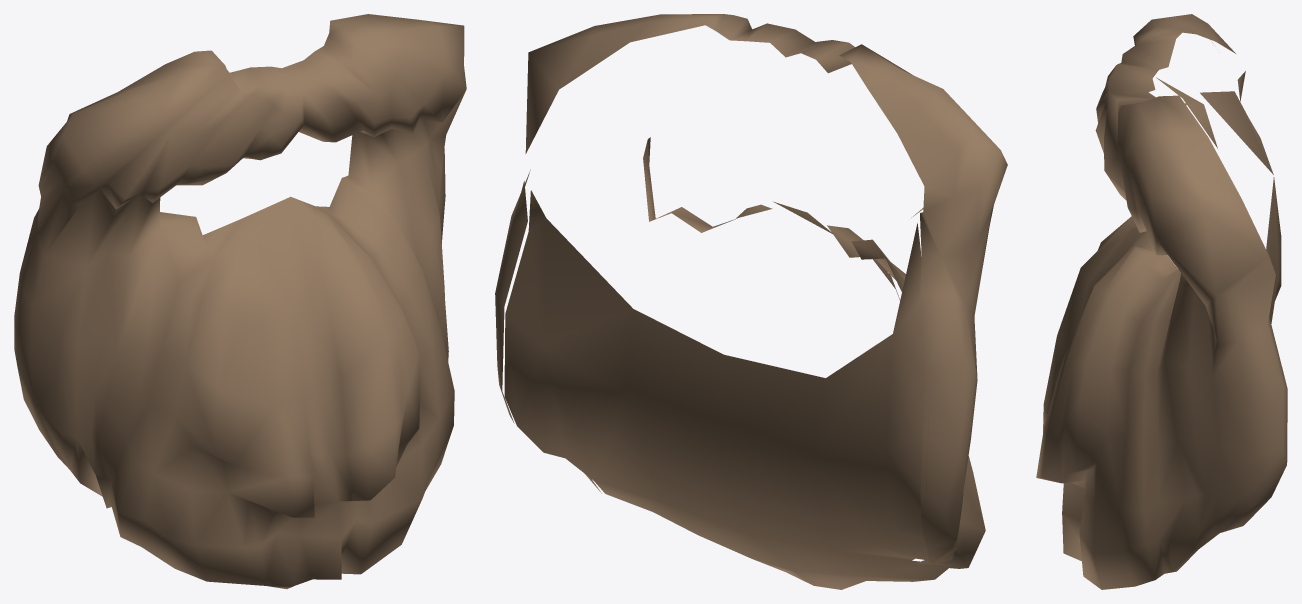
The model's file is beard1.glb.
The picture shows the model from 3 angles, left to right: view 1: azimuth 30°, elevation 25°; view 2: azimuth 150°, elevation 25°; view 3: azimuth 270°, elevation 25°; orthographic projection. The views are drawn at different scales.
Visible parts, largest first — view 1: Wolf3D_Beard; view 2: Wolf3D_Beard; view 3: Wolf3D_Beard.
Part boxes in pixels (x1,y1,x2,y2): Wolf3D_Beard: [14, 14, 466, 589]; Wolf3D_Beard: [495, 14, 1007, 589]; Wolf3D_Beard: [1036, 14, 1287, 589].
Bounding box in the file's own units: 0.0923 × 0.1077 × 0.0492.
Materials: 1 (1 with a texture image).
